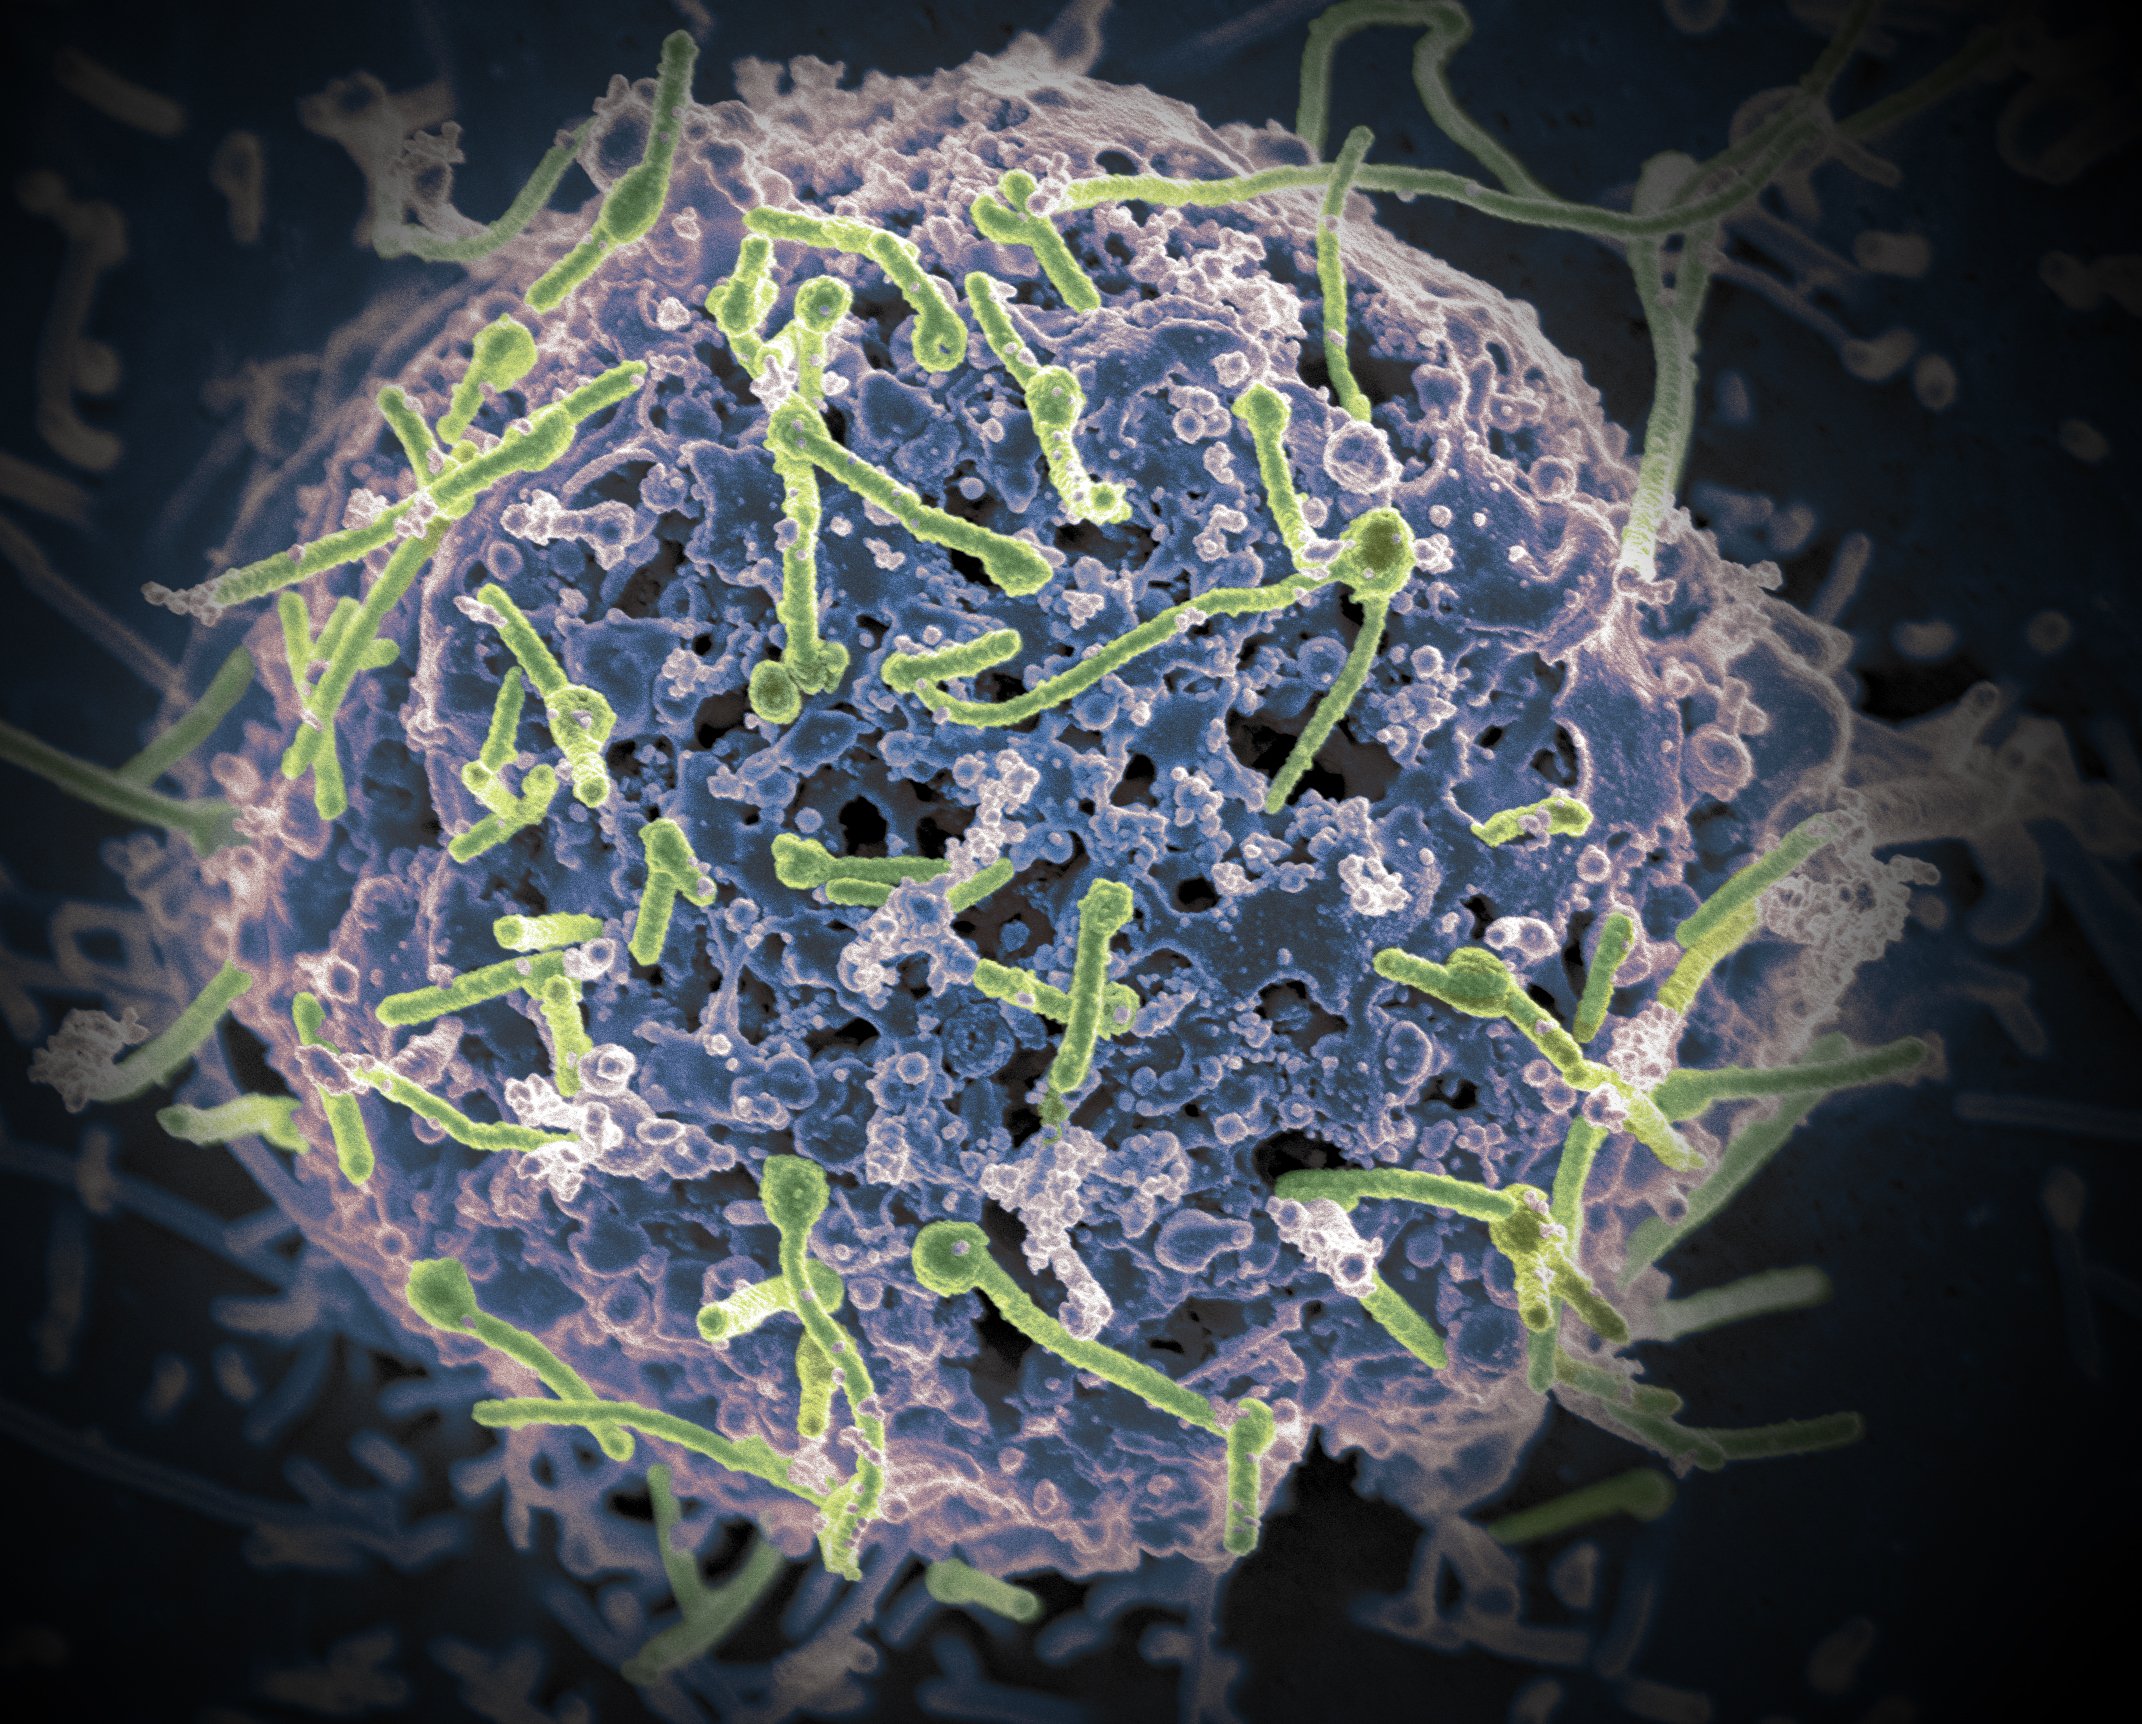COVID19: (171, 93, 1606, 1216)
